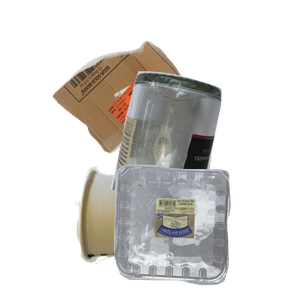cardboard: (50, 38, 233, 184)
glass: (109, 69, 300, 249)
plastic: (112, 162, 300, 300)
trash: (73, 164, 278, 300)
